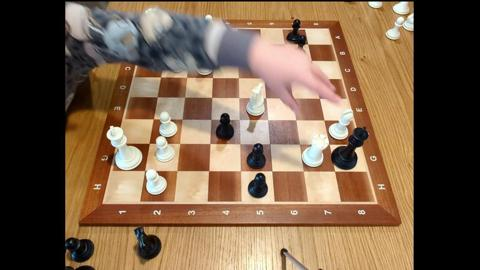xcorner: (258, 57, 266, 65), (235, 140, 243, 148), (267, 167, 275, 175), (280, 41, 288, 48), (233, 41, 241, 48), (210, 40, 217, 48), (186, 40, 194, 47), (285, 76, 293, 83), (260, 75, 267, 83), (208, 75, 216, 82), (183, 74, 190, 82), (315, 95, 322, 103), (261, 95, 269, 102), (208, 94, 215, 102), (153, 94, 161, 101), (291, 117, 299, 124), (235, 116, 242, 124), (299, 167, 306, 175), (204, 167, 212, 174), (141, 166, 148, 174), (304, 42, 311, 49), (257, 41, 264, 48), (163, 40, 170, 47), (307, 58, 314, 65), (283, 58, 290, 65), (234, 57, 241, 64), (209, 57, 216, 64), (185, 57, 192, 64), (160, 56, 167, 63), (311, 76, 318, 83), (234, 75, 241, 82), (157, 74, 164, 81), (288, 95, 295, 102), (235, 95, 242, 102), (181, 94, 188, 101), (320, 117, 327, 124), (263, 117, 270, 124), (207, 116, 214, 123), (178, 116, 185, 123), (150, 116, 157, 123), (325, 141, 332, 148), (295, 141, 302, 148), (265, 141, 272, 148), (206, 140, 213, 147), (176, 140, 183, 147), (146, 140, 153, 147), (330, 168, 337, 175), (236, 167, 243, 174), (173, 167, 180, 174)
